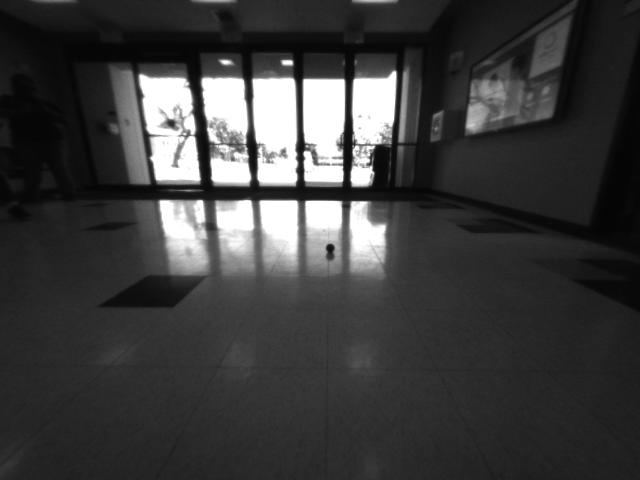dogtoy: (317, 236, 345, 258)
